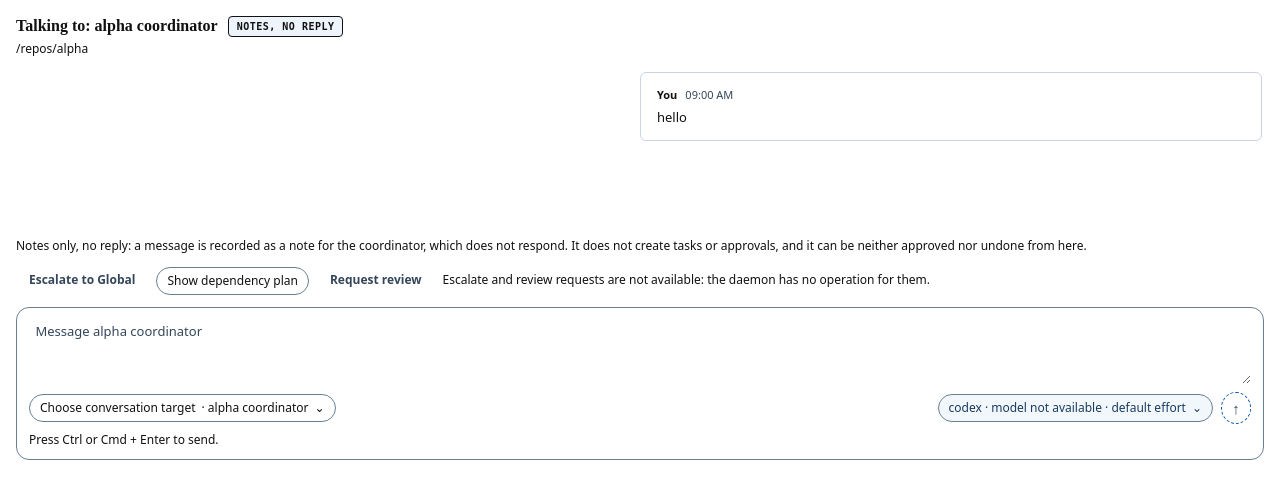
Scenario: workspace view, live (daemon-derived) mode › sends to the Global target through the daemon and shows the runtime-unavailable state, never a reply
This screenshot has width=1280, height=503.
Check: the heading "Talking to: alpha coordinator" is shown, box [16, 16, 218, 37]
Click the button "Choose conversation target · alpha coordinator ⌄". click: click(182, 408)
box: [29, 394, 336, 422]
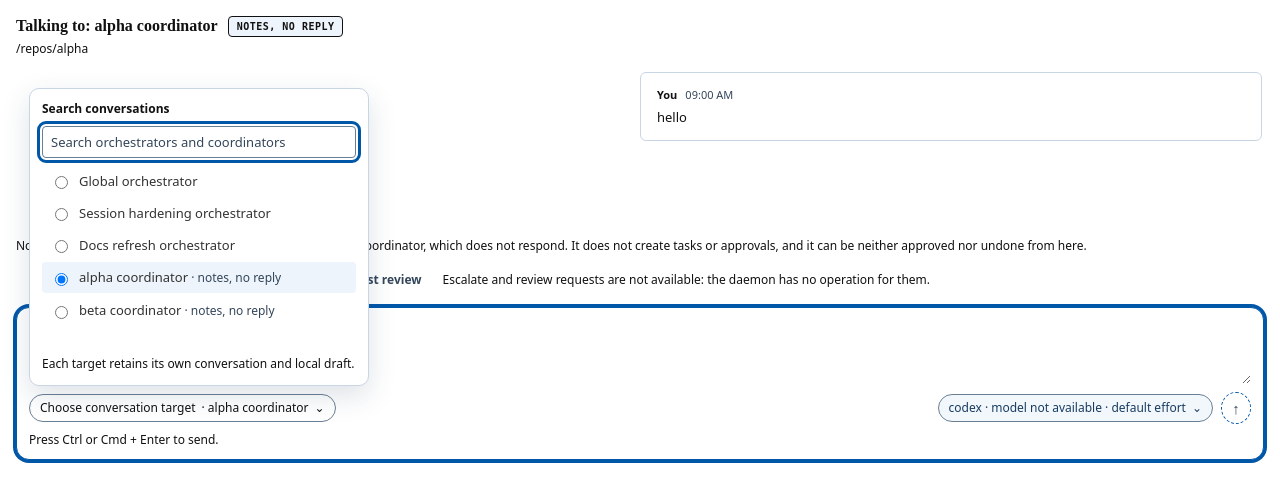
Click the radio button labelled "Global orchestrator". click: click(62, 182)
box: [55, 176, 68, 189]
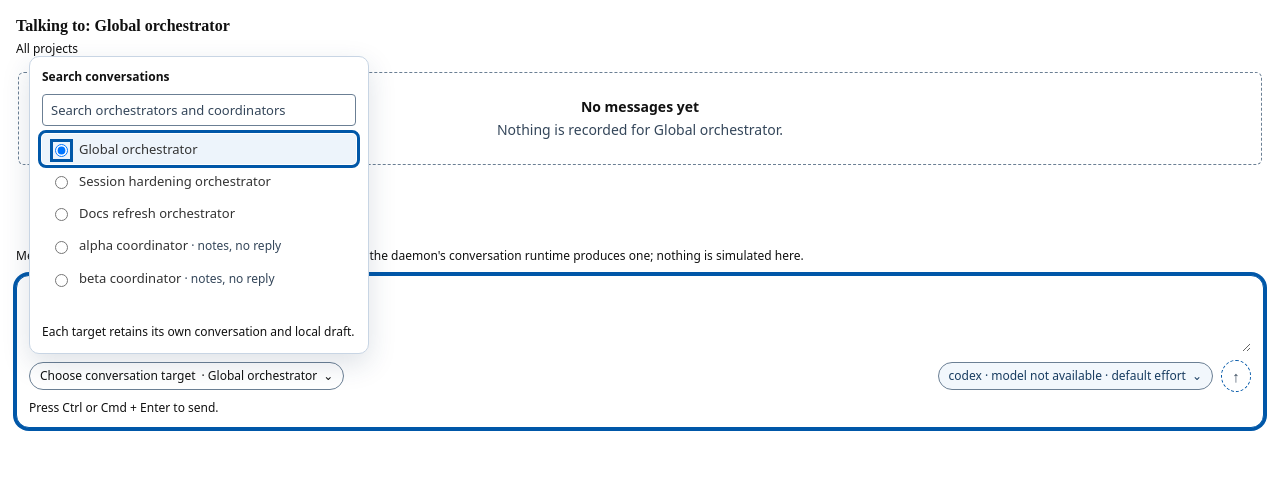
Type "hello global" into the text box labelled "Message Global orchestrator". click: (640, 319)
box: [29, 286, 1251, 352]
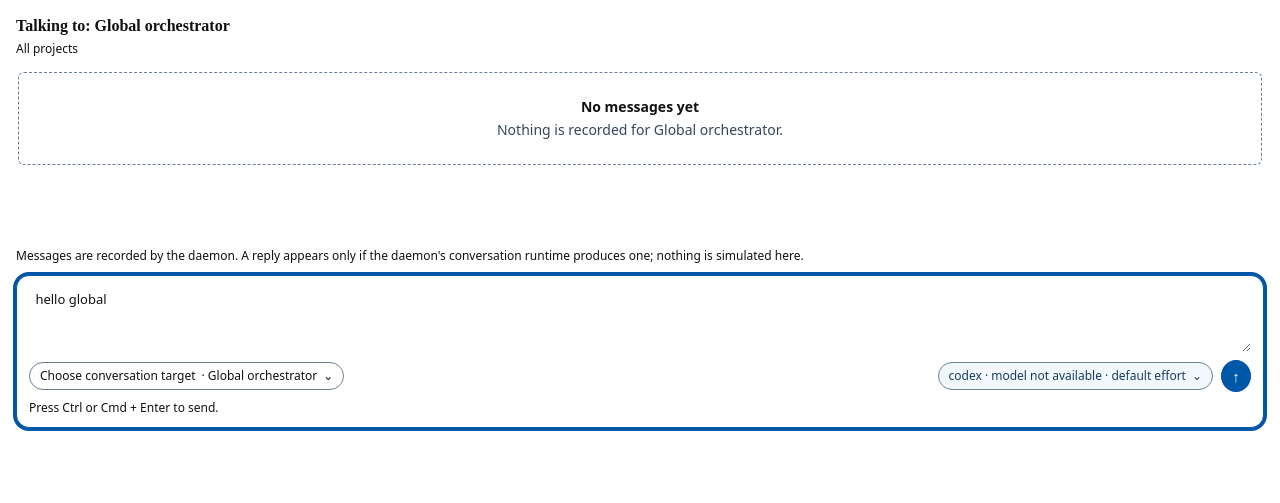
Click the button named "Send message to Global orchestrator". click: click(1236, 376)
box: [1221, 360, 1251, 392]
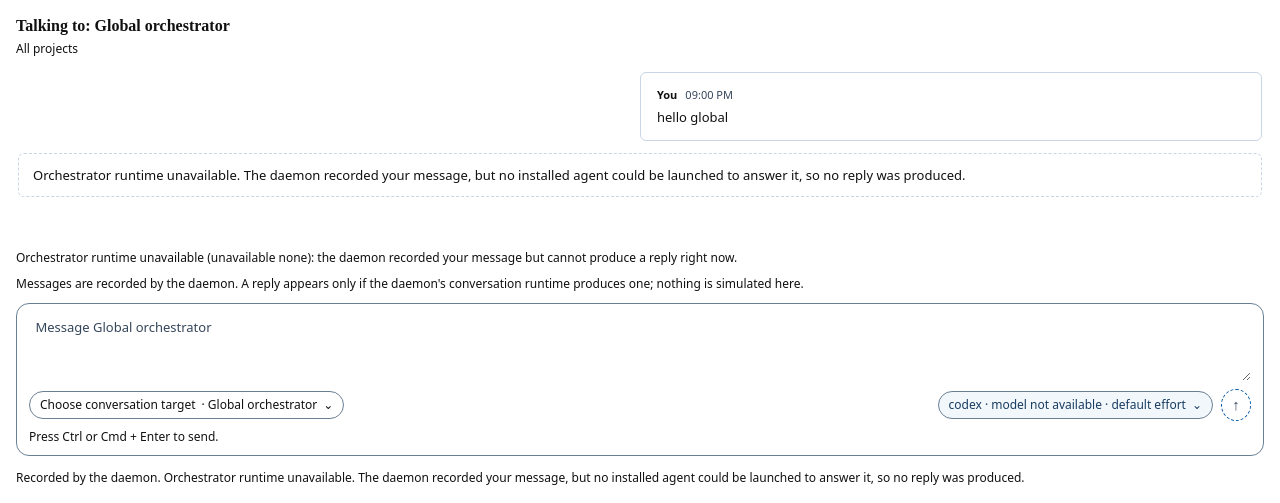
Check: the text "hello global" is shown, box [657, 108, 728, 126]
Check: the text "Orchestrator runtime unavailable" is shown, box [33, 166, 966, 184]
Check: the text box labelled "Message Global orchestrator" is empty, box [29, 314, 1251, 381]
